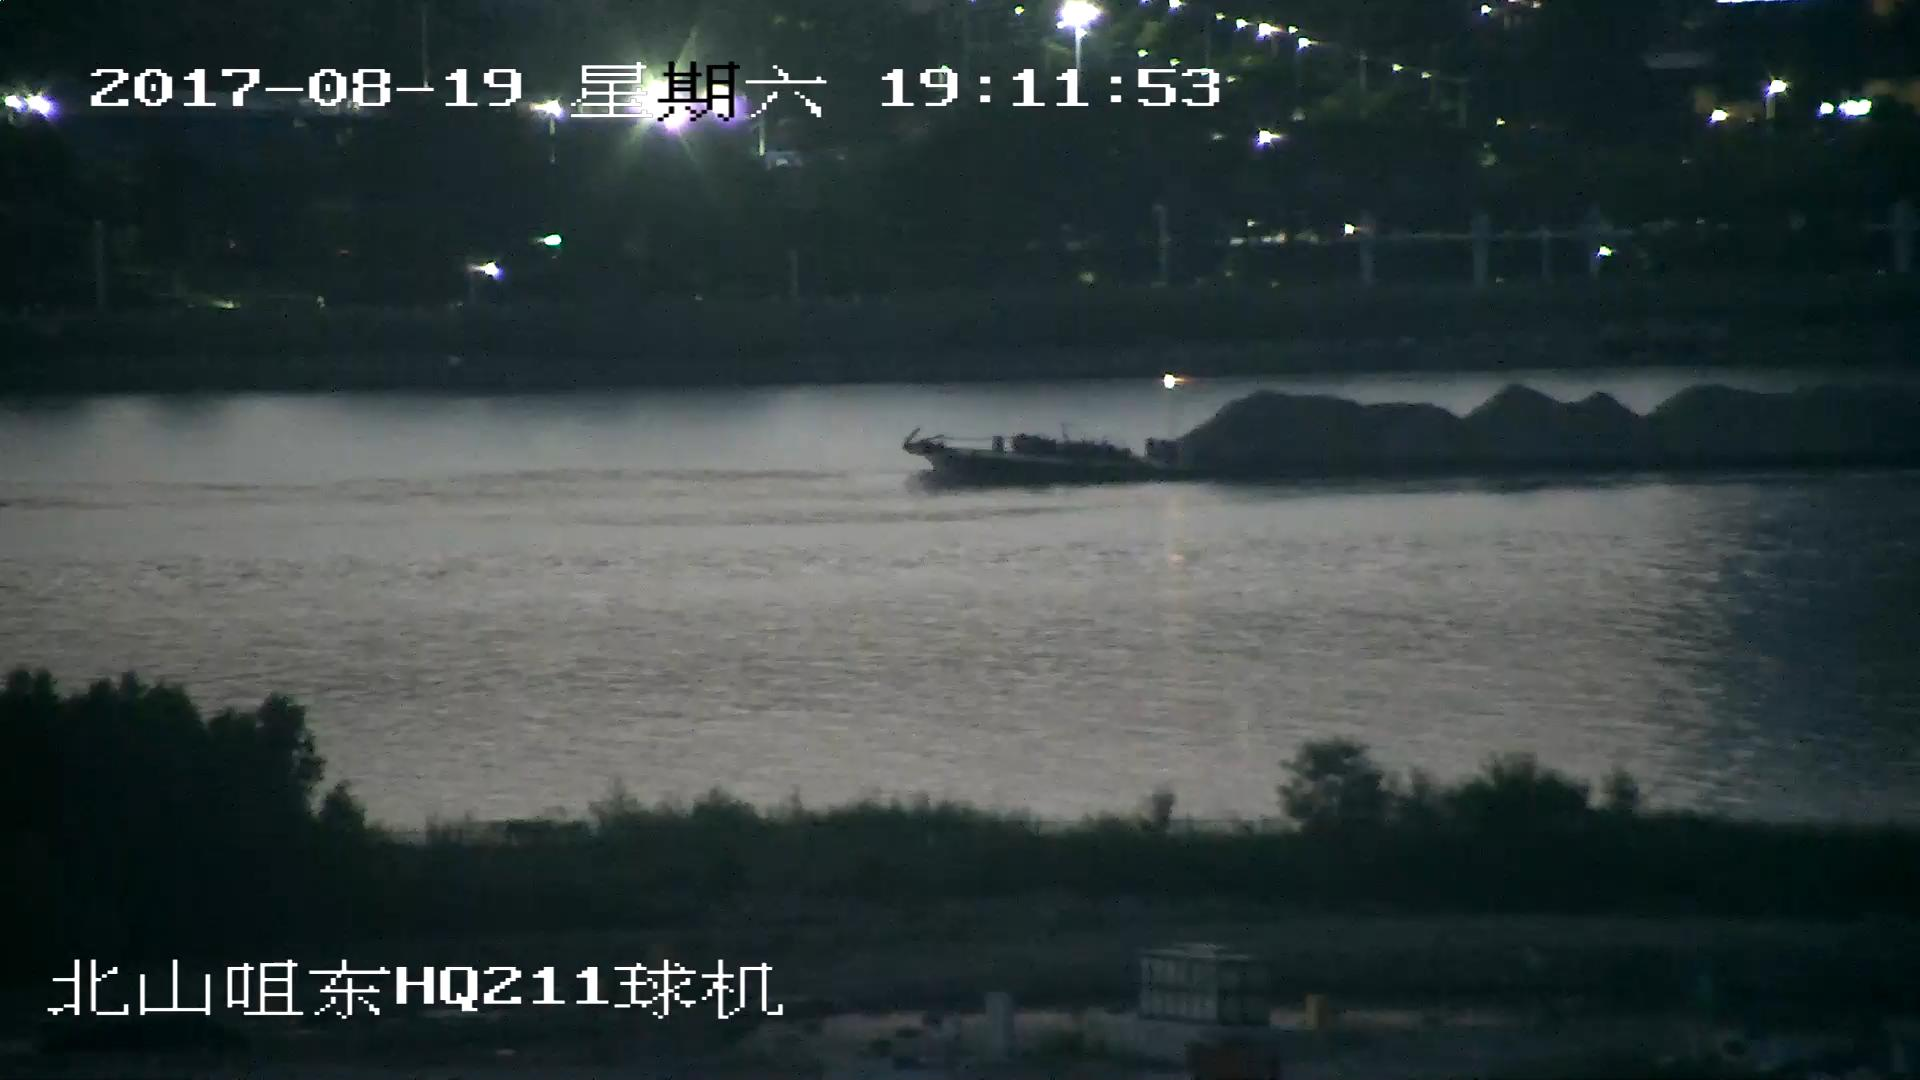ore carrier: (888, 382, 1920, 498)
